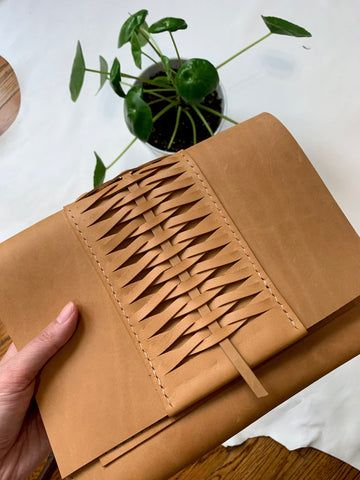cuero: (2, 109, 360, 480)
